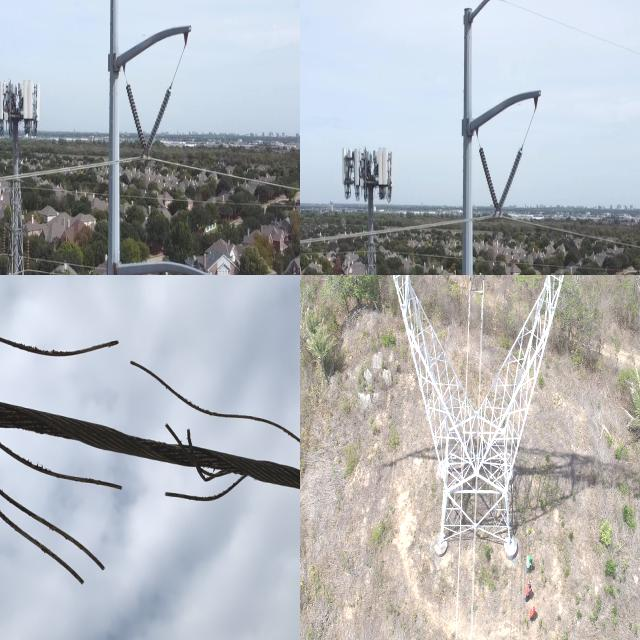杆塔: (300, 275, 640, 640), (0, 144, 39, 275)
正常绝缘子: (133, 71, 181, 177), (488, 131, 532, 230), (117, 66, 153, 162), (471, 132, 506, 221)
电缆破损: (0, 275, 300, 597)
